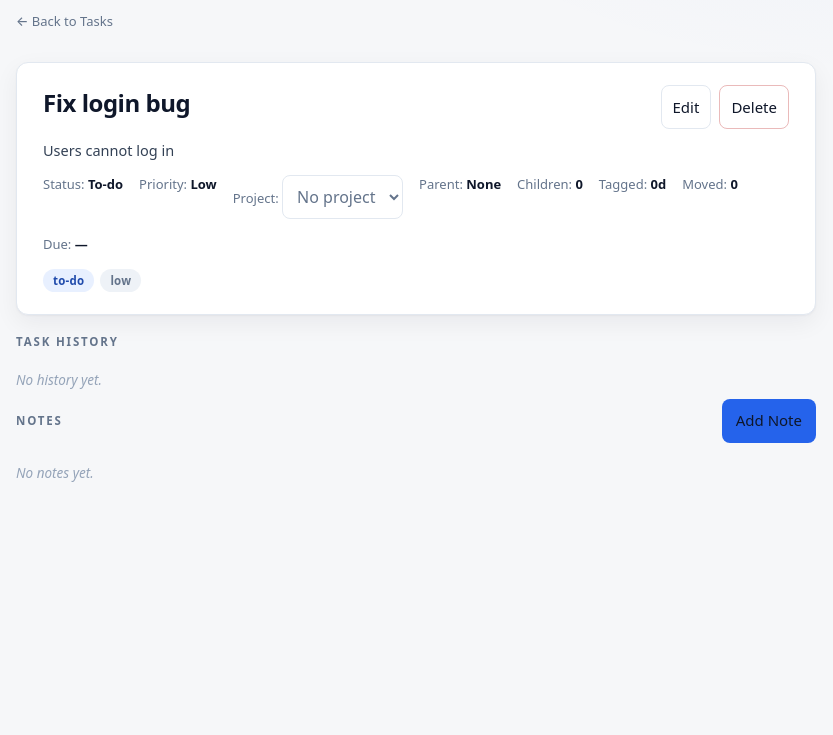
it: TaskDetailPage › Add Note button shows NoteForm
Click the button "Add Note" at (769, 421), box [722,399,816,443]
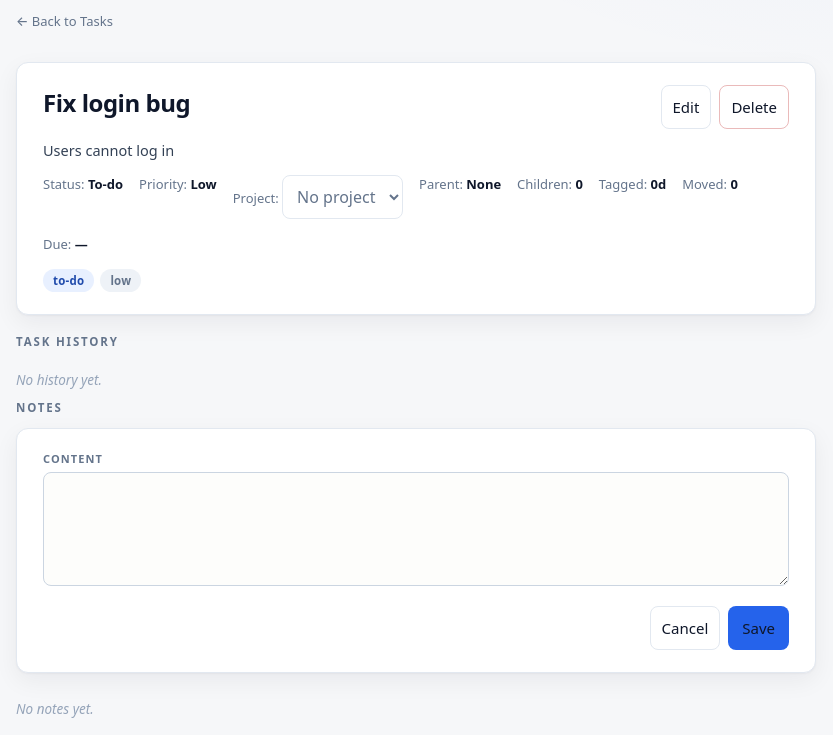
Expected: the text box is shown, [43,472,789,586]
